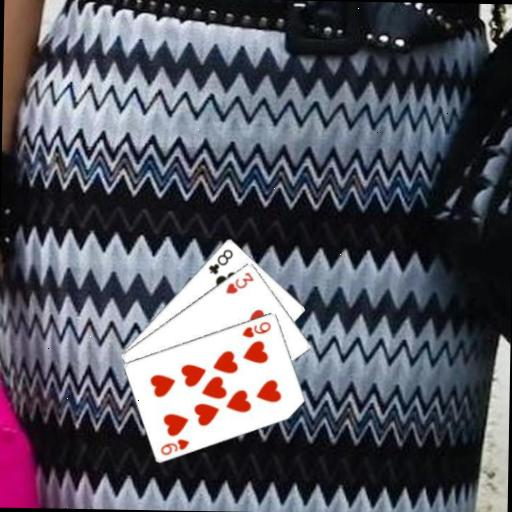3H: (223, 268, 256, 296)
8C: (205, 246, 235, 277)
9H: (239, 318, 273, 340), (157, 435, 191, 457)
